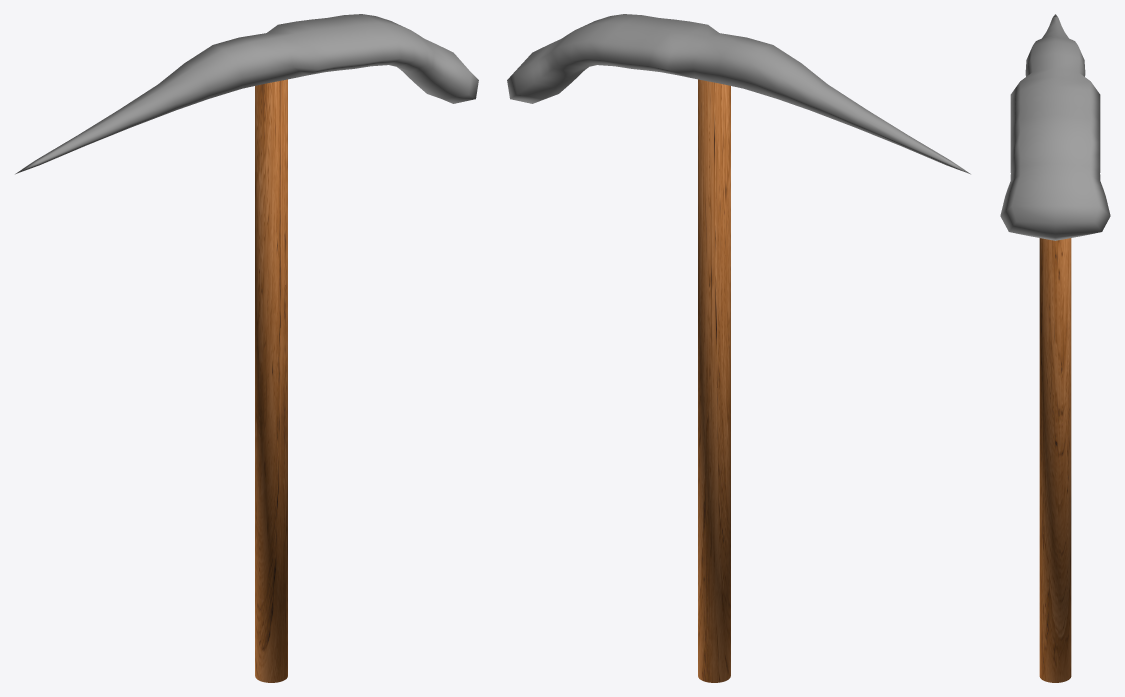
File: MinePick.fbx
3 views of the same model, side by side, from view 1: azimuth 30°, elevation 25°; view 2: azimuth 150°, elevation 25°; view 3: azimuth 270°, elevation 25° (orthographic). The views are drawn at different scales.
Parts seen in each view (by area): view 1: Cylinder; view 2: Cylinder; view 3: Cylinder.
Part boxes in pixels (x1=…): Cylinder: x1=15, y1=14, x2=478, y2=682; Cylinder: x1=507, y1=14, x2=970, y2=682; Cylinder: x1=1000, y1=14, x2=1110, y2=682.
Bounding box in the file's own units: 31.5 × 42.85 × 6.99.
